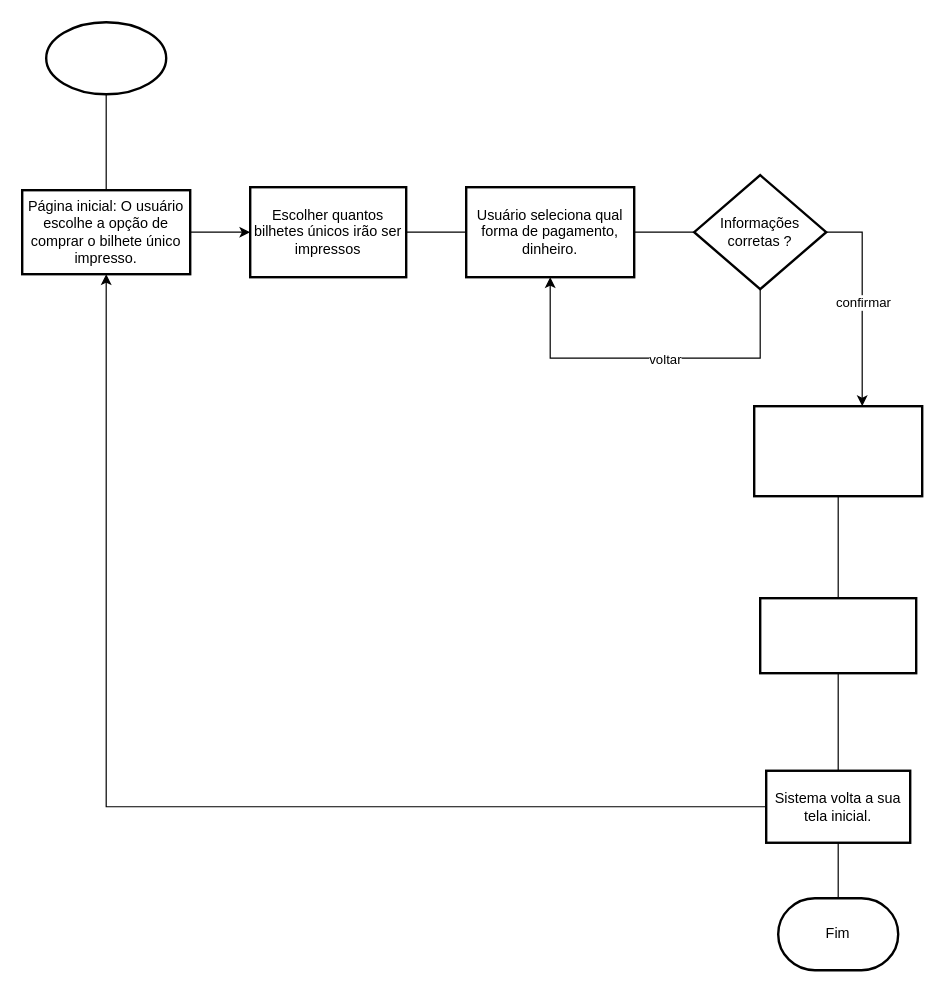
This 943x991 diagram has some shape labels left out. The shapes that lost their labels are listed below. From the top down, each one's centre as x and y in pixels, then its label:
At (x=105, y=57): "Começar".
At (x=837, y=450): "Usuário tem sua compra aprovada".
At (x=837, y=635): "Usuário imprimi seu recibo".
